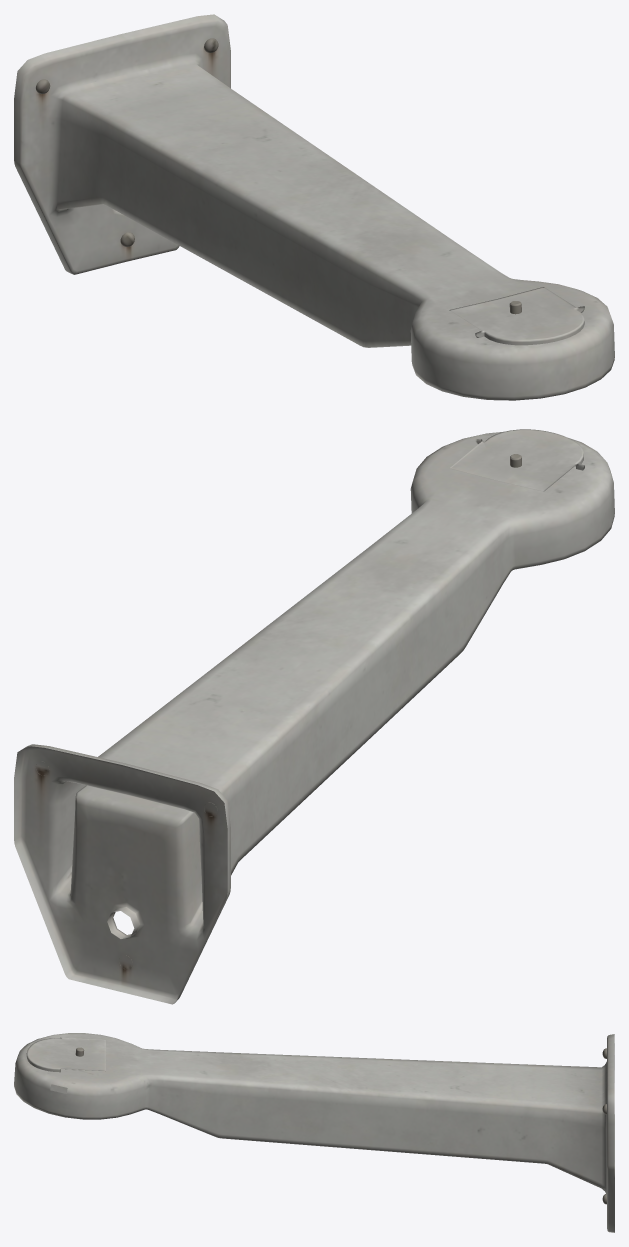
File: security_camera_mount.glb
The picture shows the model from 3 angles, top to bottom: view 1: azimuth 30°, elevation 25°; view 2: azimuth 150°, elevation 25°; view 3: azimuth 270°, elevation 25°; orthographic projection. The views are drawn at different scales.
Visible parts, largest first — view 1: CameraMount; view 2: CameraMount; view 3: CameraMount.
Part boxes in pixels (x1,y1,x2,y2): CameraMount: (14, 14, 614, 400); CameraMount: (14, 429, 614, 1004); CameraMount: (14, 1033, 614, 1232).
Size of the model in its own units: 0.0834 by 0.092 by 0.2998.
1 material, 1 textured.
